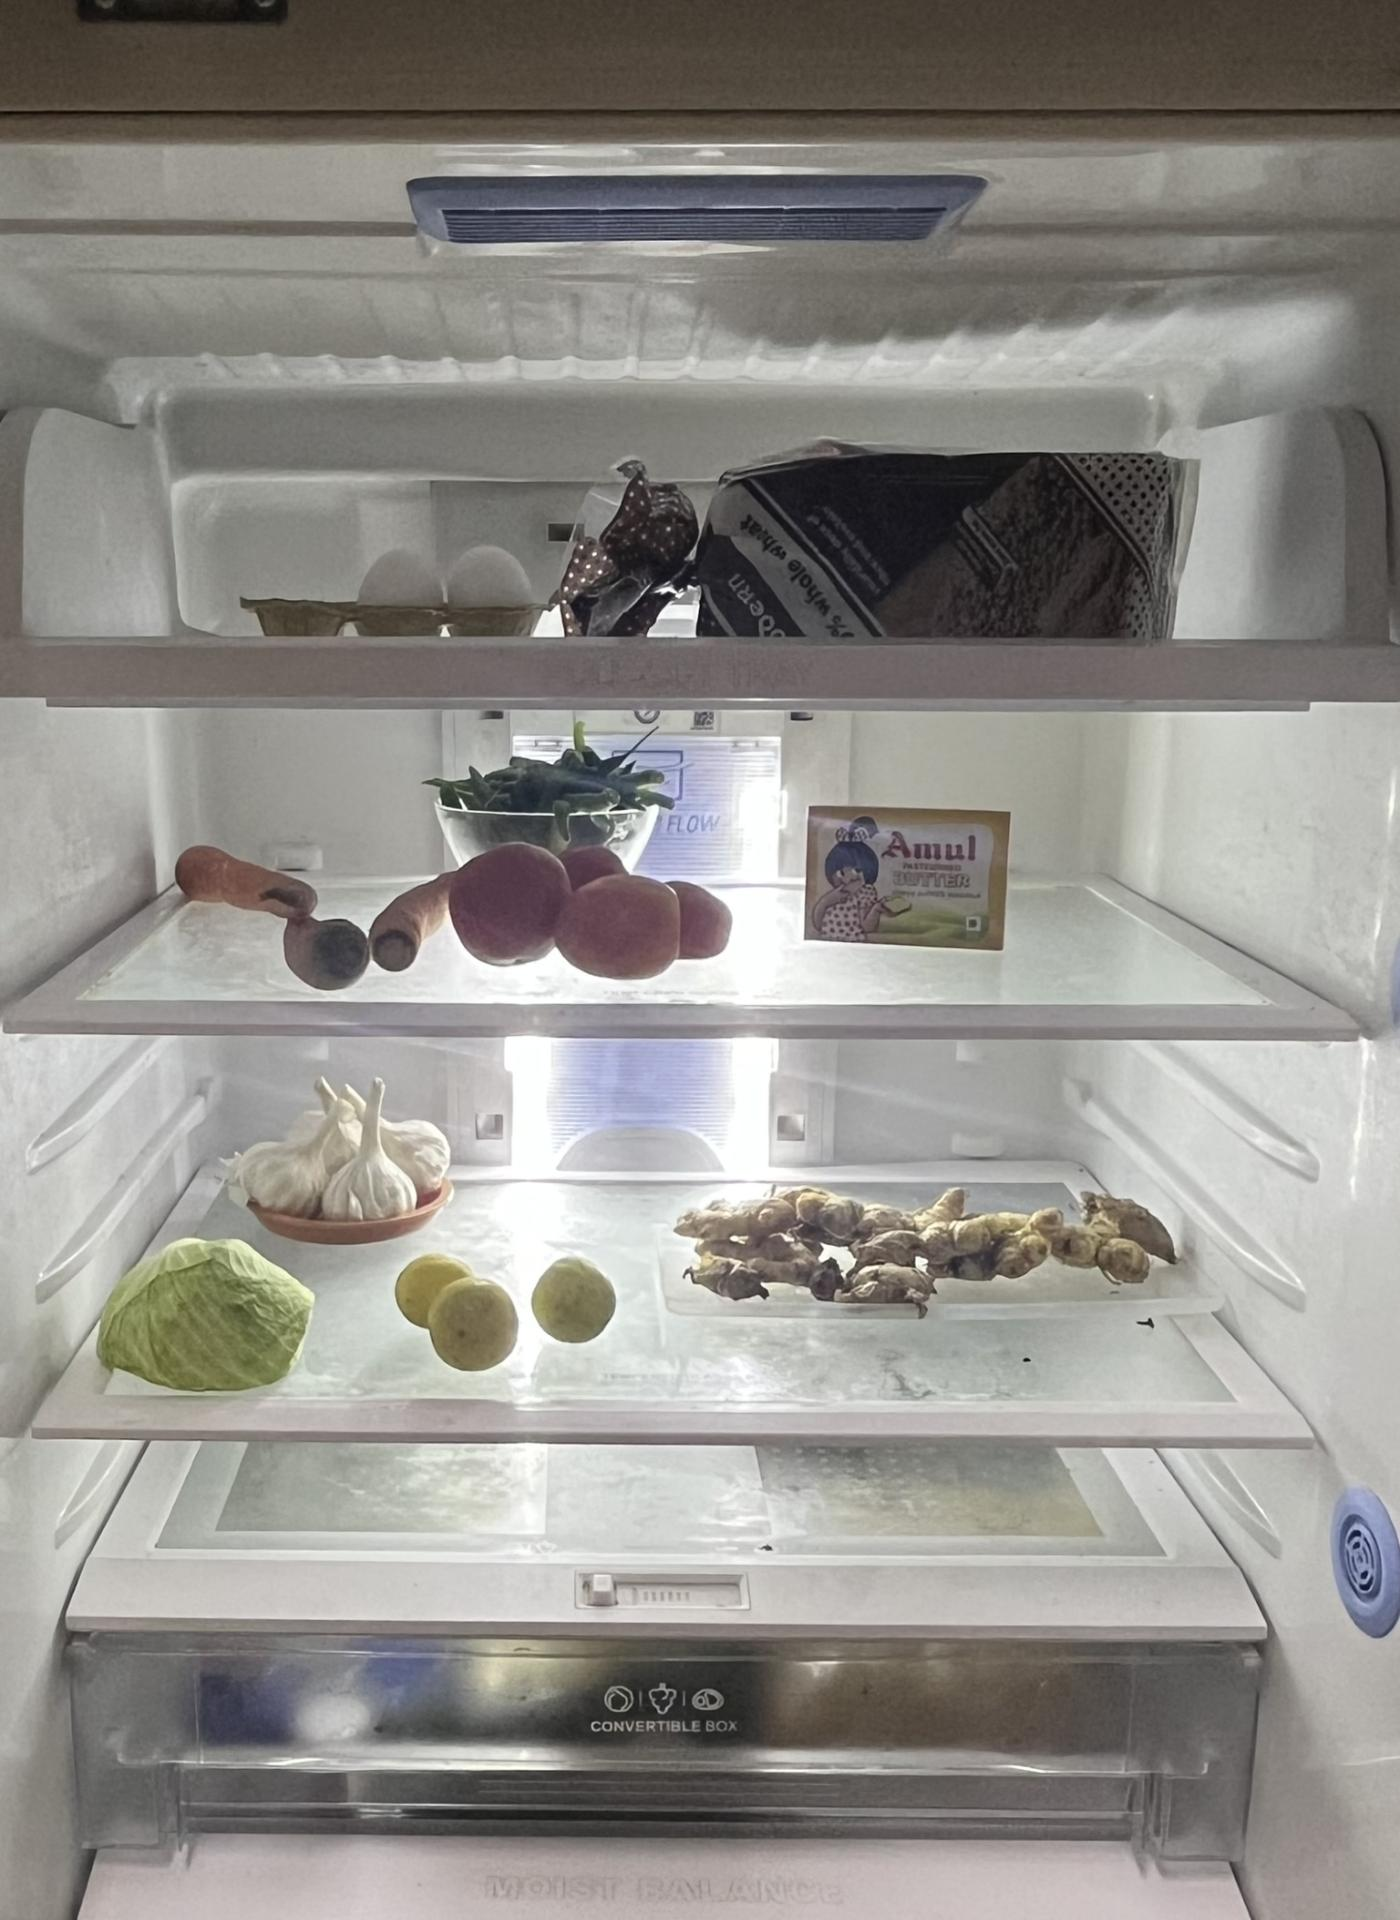bread: (562, 437, 1215, 613)
butter: (808, 808, 1014, 954)
cabbage: (91, 1237, 316, 1395)
carrots: (171, 851, 452, 979)
chillies: (429, 748, 675, 859)
egg: (349, 534, 535, 616)
garlic: (239, 1066, 455, 1227)
ginger: (671, 1182, 1179, 1321)
lemon: (391, 1245, 605, 1374)
tomato: (462, 850, 732, 969)
